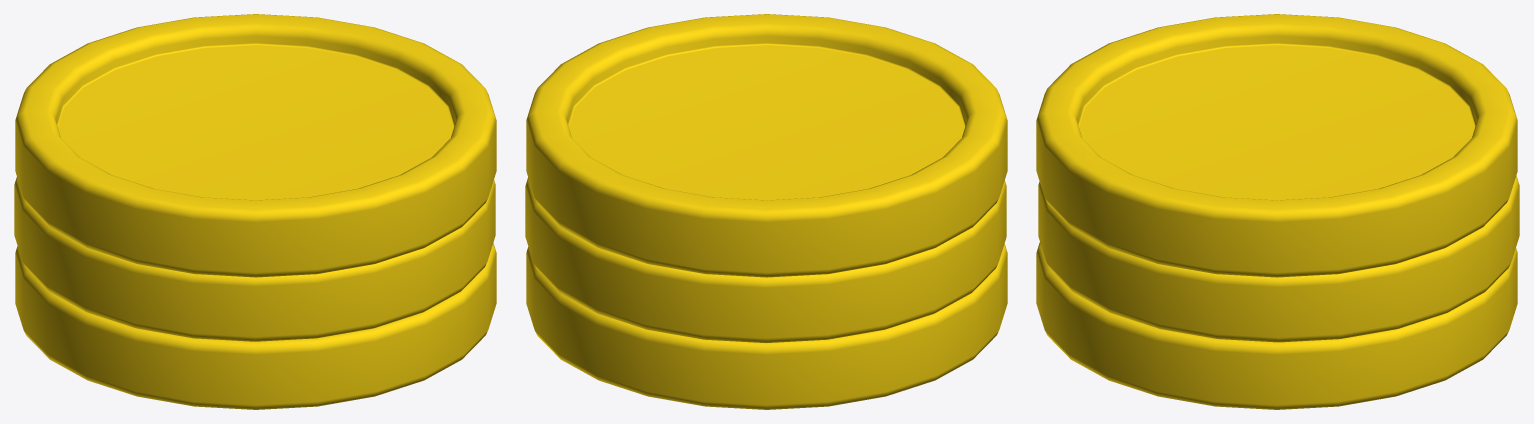
File: Public_1_Stack_of_Coins_8.glb
The picture shows the model from 3 angles, left to right: view 1: azimuth 30°, elevation 25°; view 2: azimuth 150°, elevation 25°; view 3: azimuth 270°, elevation 25°; orthographic projection.
Visible parts, largest first — view 1: Public_1_Stack_of_Coins_8; view 2: Public_1_Stack_of_Coins_8; view 3: Public_1_Stack_of_Coins_8.
Boxes of the visible parts, x1,y1,x2,y2 form: Public_1_Stack_of_Coins_8: (14, 14, 496, 409); Public_1_Stack_of_Coins_8: (525, 14, 1007, 409); Public_1_Stack_of_Coins_8: (1036, 14, 1519, 409).
Size of the model in its own units: 1.11 by 0.5093 by 1.12.
1 material, 1 textured.
